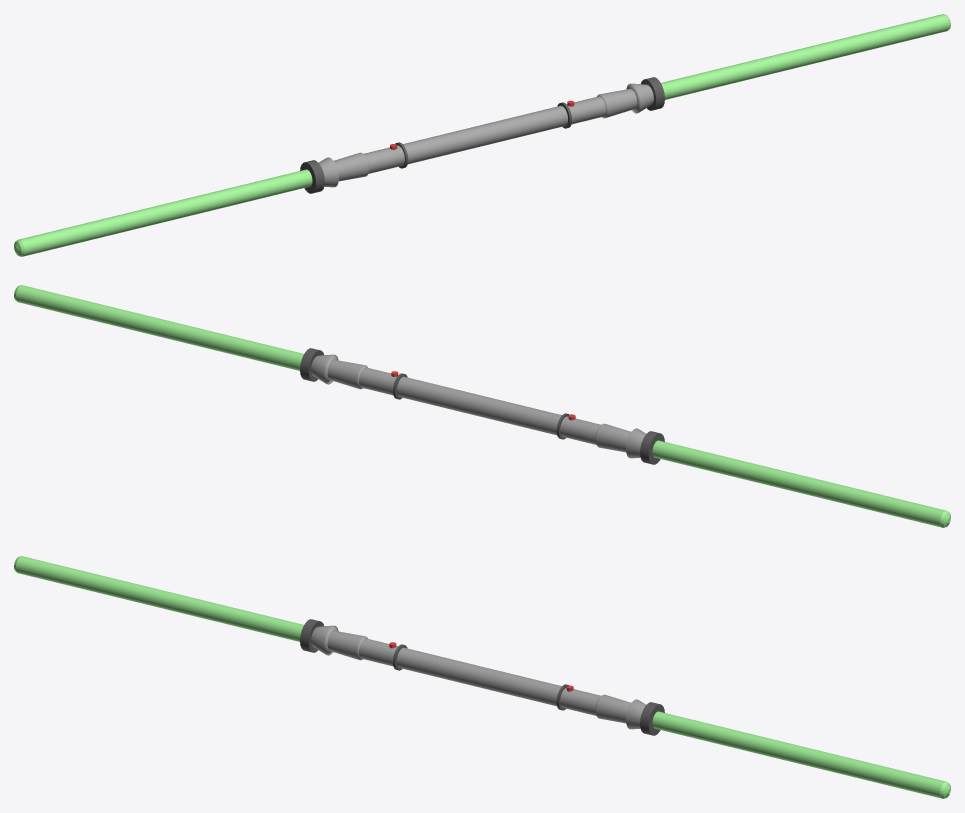
Rendered from Laser Staff.fbx.
3 renders of one model, top to bottom at view 1: azimuth 30°, elevation 25°; view 2: azimuth 150°, elevation 25°; view 3: azimuth 330°, elevation 25°, orthographic.
Visible parts, largest first — view 1: pCylinder4; view 2: pCylinder4; view 3: pCylinder4.
Part boxes in pixels (<box>): pCylinder4: <box>14,14,950,256</box>; pCylinder4: <box>14,285,950,527</box>; pCylinder4: <box>14,556,950,798</box>.
Size of the model in its own units: 10254 by 309 by 309.
